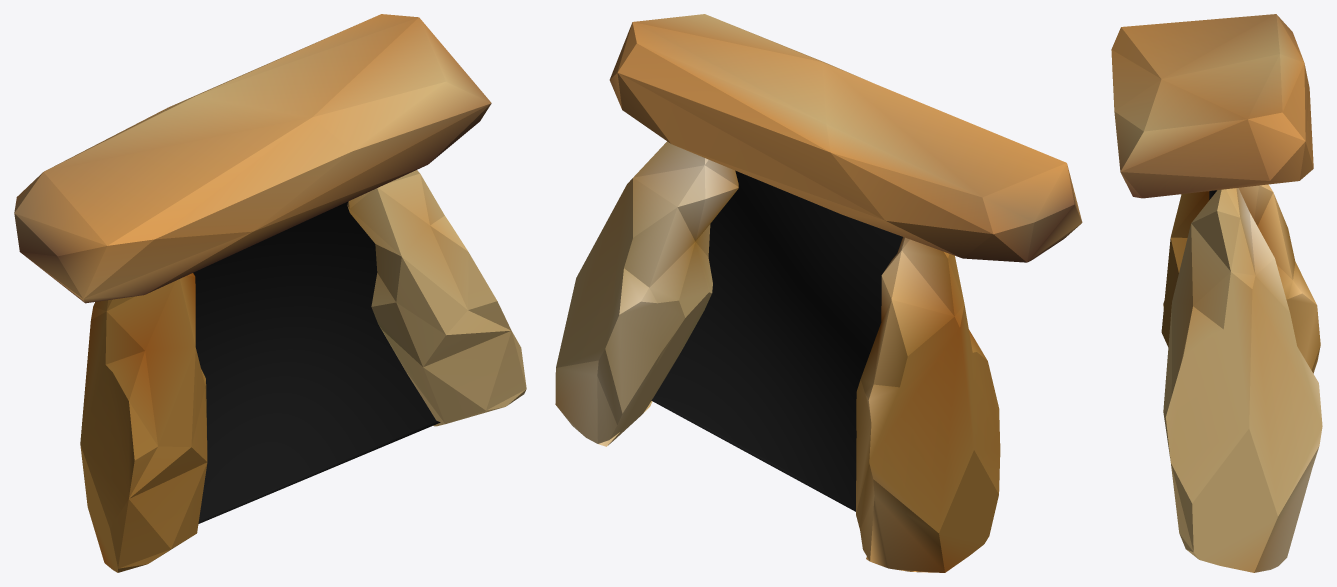
The model's file is portal_flat.glb.
3 views of the same model, side by side, from view 1: azimuth 30°, elevation 25°; view 2: azimuth 150°, elevation 25°; view 3: azimuth 270°, elevation 25° (orthographic). The views are drawn at different scales.
Visible parts, largest first — view 1: portal; view 2: portal; view 3: portal.
Boxes of the visible parts, bbox=[...] form: portal: bbox=[14, 14, 526, 572]; portal: bbox=[555, 14, 1082, 572]; portal: bbox=[1111, 14, 1322, 572].
Bounding box in the file's own units: 33.85 × 31.45 × 12.18.
4 materials, 3 textured.
